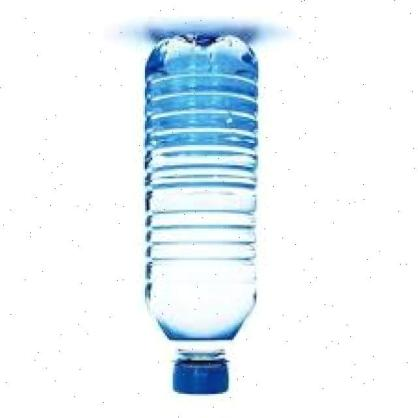bottle: (138, 31, 268, 402)
cap: (166, 351, 237, 399)
